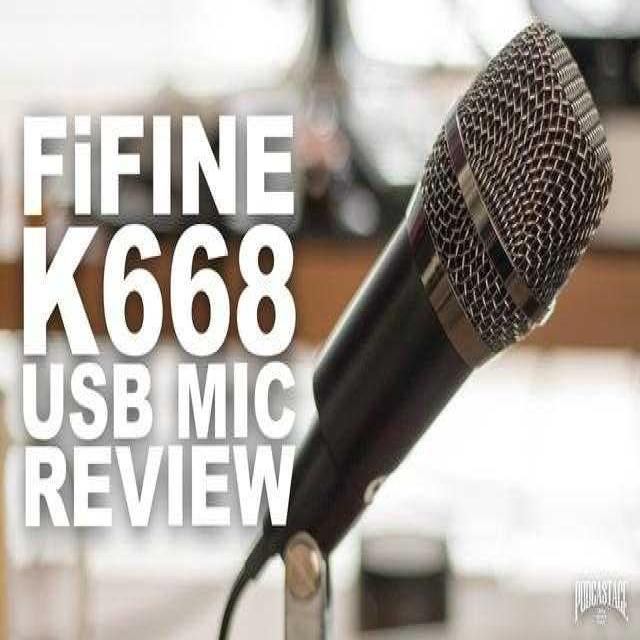microphone: (222, 13, 610, 630)
